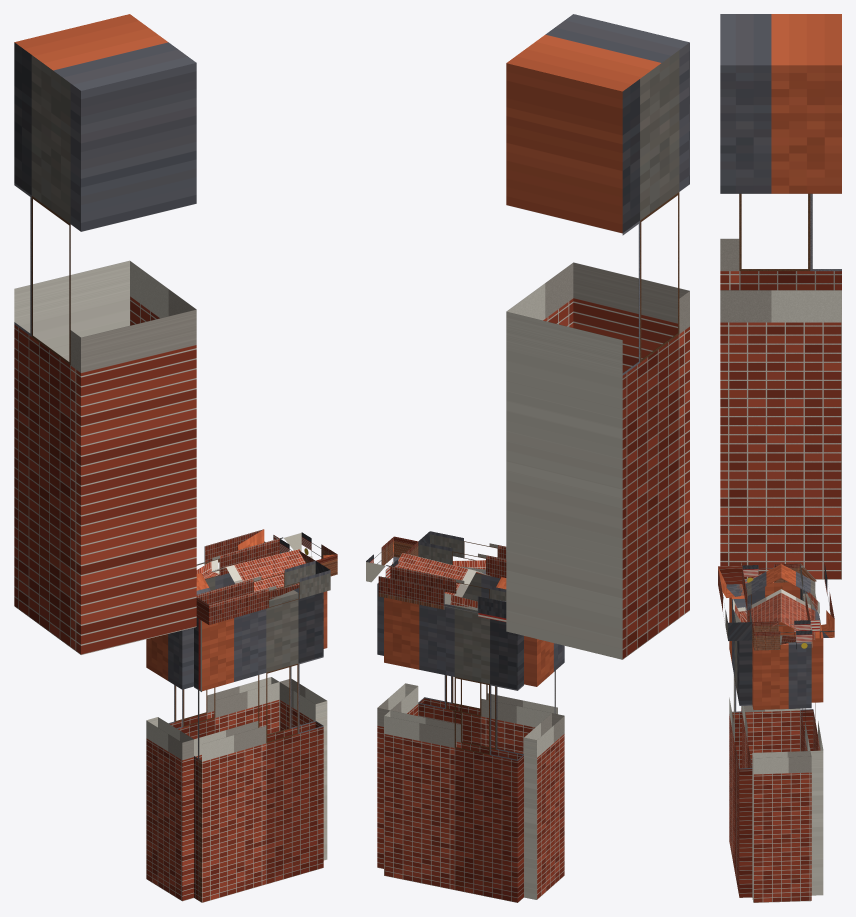
3 views of the same model, side by side, from view 1: azimuth 30°, elevation 25°; view 2: azimuth 150°, elevation 25°; view 3: azimuth 270°, elevation 25° (orthographic). The views are drawn at different scales.
Visible parts, largest first — view 1: 1242095648__chimney_0_xb, 1242095648__wall_2_xb, 1242095648__wall_3_xb, 1242095648__wall_0_xb, 1242095648__cornice_2, 1242095648__wall_1_xb, 1242095648__cornice_0, 1242095648_roof_-1_xb, 1242095648__cornice_1; view 2: 1242095648__chimney_0_xb, 1242095648__wall_0_xb, 1242095648__wall_3_xb, 1242095648__wall_2_xb, 1242095648__cornice_0, 1242095648__wall_1_xb, 1242095648__cornice_2, 1242095648_roof_1_xb, 1242095648__cornice_1; view 3: 1242095648__chimney_0_xb, 1242095648__wall_1_xb, 1242095648__wall_2_xb, 1242095648__wall_0_xb, 1242095648__wall_3_xb, 1242095648__cornice_2, 1242095648__cornice_1, 1242095648_roof_1_xb, 1242095648_roof_-1_xb, 1242095648__cornice_0, 1242095648__cornice_3.
Part boxes in pixels (x1,y1,x2,y2): 1242095648__chimney_0_xb: (14, 14, 196, 654); 1242095648__wall_2_xb: (194, 588, 323, 902); 1242095648__wall_3_xb: (146, 627, 193, 901); 1242095648__wall_0_xb: (168, 569, 279, 739); 1242095648__cornice_2: (196, 561, 330, 624); 1242095648__wall_1_xb: (279, 591, 327, 860); 1242095648__cornice_0: (196, 529, 279, 579); 1242095648_roof_-1_xb: (196, 549, 305, 594); 1242095648__cornice_1: (279, 532, 337, 576); 1242095648__chimney_0_xb: (506, 14, 689, 659); 1242095648__wall_0_xb: (384, 597, 523, 902); 1242095648__wall_3_xb: (524, 636, 564, 899); 1242095648__wall_2_xb: (418, 566, 557, 754); 1242095648__cornice_0: (378, 566, 506, 622); 1242095648__wall_1_xb: (377, 577, 418, 868); 1242095648__cornice_2: (418, 531, 506, 578); 1242095648_roof_1_xb: (398, 553, 506, 601); 1242095648__cornice_1: (366, 536, 418, 582); 1242095648__chimney_0_xb: (720, 14, 841, 579); 1242095648__wall_1_xb: (752, 641, 811, 902); 1242095648__wall_2_xb: (729, 584, 752, 897); 1242095648__wall_0_xb: (800, 588, 823, 895); 1242095648__wall_3_xb: (741, 579, 800, 766); 1242095648__cornice_2: (718, 565, 752, 640); 1242095648__cornice_1: (752, 620, 812, 650); 1242095648_roof_1_xb: (781, 563, 815, 639); 1242095648_roof_-1_xb: (747, 563, 781, 631); 1242095648__cornice_0: (800, 563, 834, 637); 1242095648__cornice_3: (741, 562, 800, 582).
Size of the model in its own units: 0.3572 by 1.05 by 0.1529.
1 material, 1 textured.
